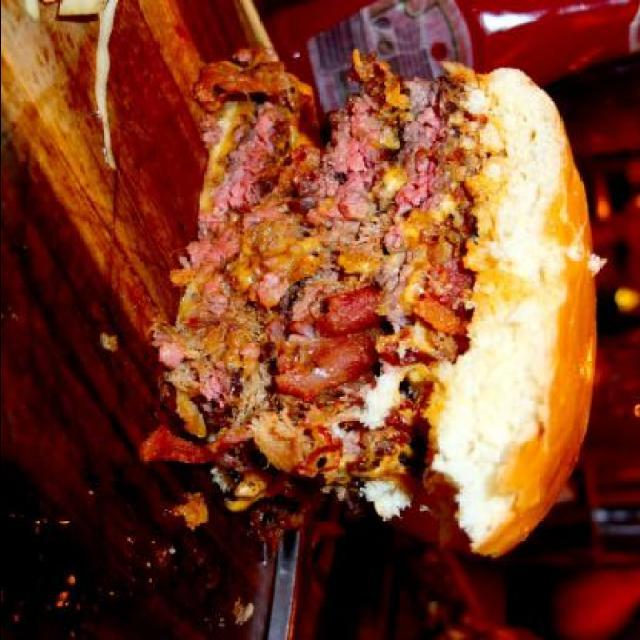Hamburger: (136, 50, 607, 559)
